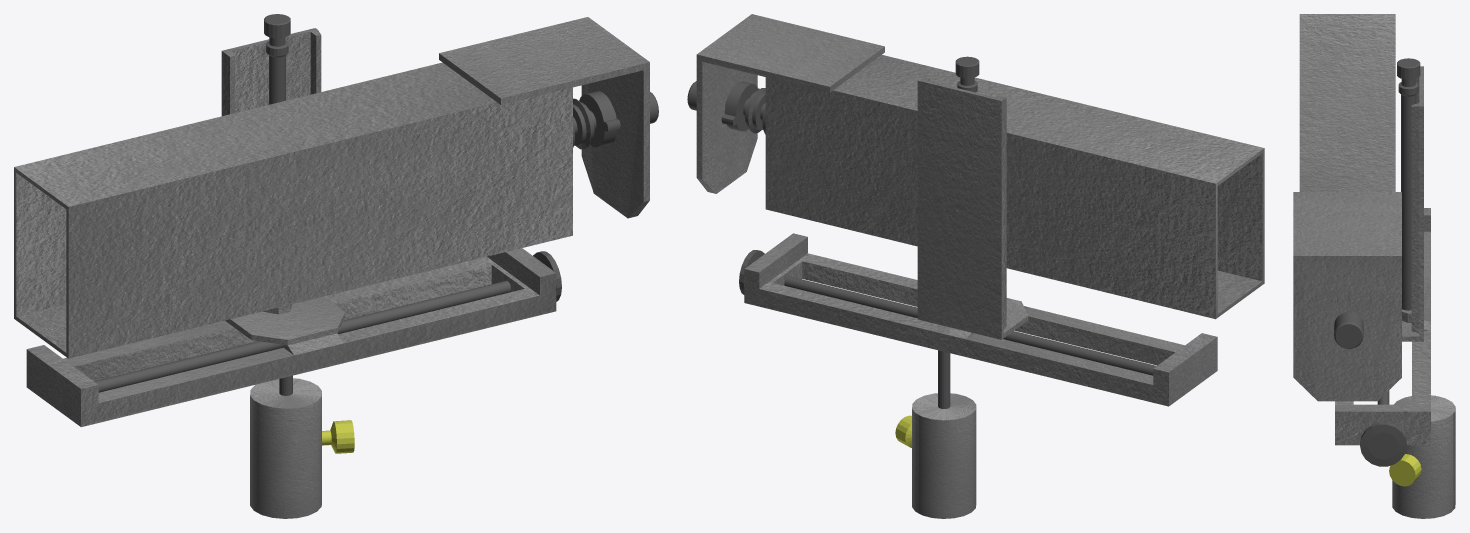
Rendered from Installation_for_LEDs_1.glb.
The picture shows the model from 3 angles, left to right: view 1: azimuth 30°, elevation 25°; view 2: azimuth 150°, elevation 25°; view 3: azimuth 270°, elevation 25°; orthographic projection. The views are drawn at different scales.
Visible parts, largest first — view 1: Box029, Box030, Cylinder372, Cylinder204, Cylinder203, Cylinder205, Object047; view 2: Box029, Box030, Cylinder372, Cylinder204, Cylinder203, Object048, Cylinder205; view 3: Box029, Box030, Cylinder372, Cylinder205, Cylinder204, Cylinder203, Object047.
Part boxes in pixels (x1,y1,x2,y2): Box029: (14, 17, 649, 358); Box030: (26, 28, 556, 427); Cylinder372: (250, 378, 321, 518); Cylinder204: (94, 251, 561, 392); Cylinder203: (573, 91, 658, 149); Cylinder205: (264, 14, 290, 104); Object047: (322, 420, 354, 453); Box029: (696, 14, 1264, 319); Box030: (744, 77, 1217, 406); Cylinder372: (912, 393, 976, 518); Cylinder204: (739, 250, 1156, 375); Cylinder203: (687, 81, 765, 134); Object048: (938, 350, 950, 408); Cylinder205: (955, 56, 979, 92); Box029: (1293, 14, 1401, 401); Box030: (1335, 66, 1430, 445); Cylinder372: (1392, 395, 1455, 518); Cylinder205: (1397, 58, 1420, 310); Cylinder204: (1360, 390, 1406, 466); Cylinder203: (1334, 312, 1363, 348); Object047: (1389, 454, 1421, 486).
Bounding box in the file's own units: 9.69 × 7.51 × 2.54.
Materials: 3 (1 with a texture image).
